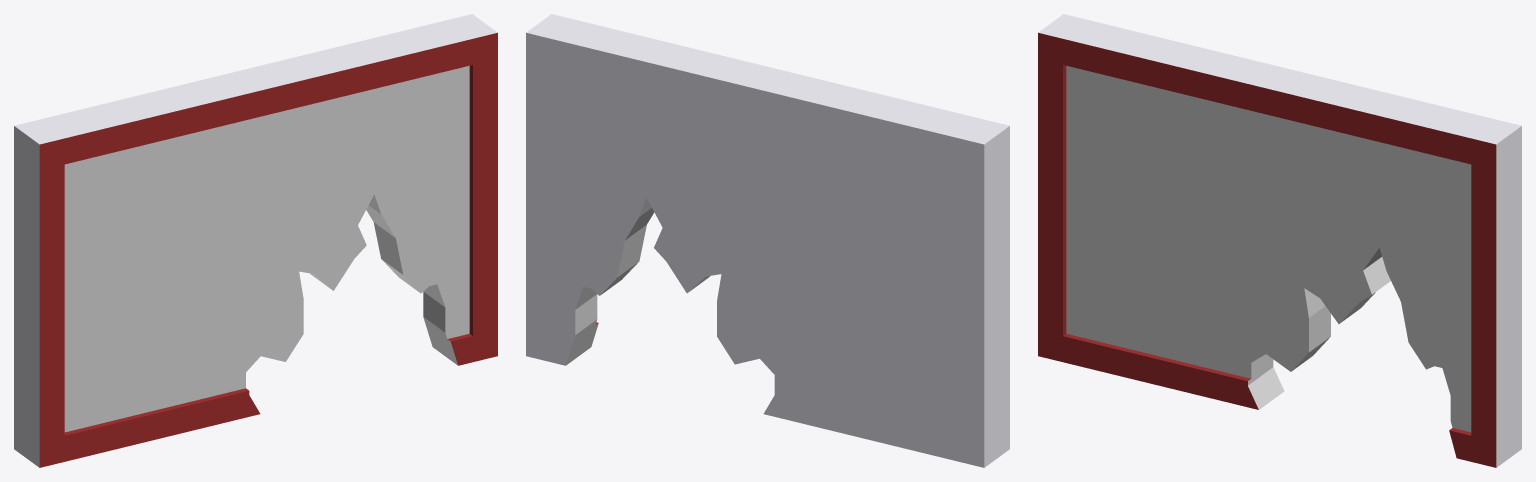
The model's file is Asian_Prop_Building_Modular_Wall_Damaged_01.FBX.
3 views of the same model, side by side, from view 1: azimuth 30°, elevation 25°; view 2: azimuth 150°, elevation 25°; view 3: azimuth 330°, elevation 25° (orthographic).
Visible parts, largest first — view 1: Asian_Prop_Building_Modular_Wall_Damaged_01; view 2: Asian_Prop_Building_Modular_Wall_Damaged_01; view 3: Asian_Prop_Building_Modular_Wall_Damaged_01.
Boxes of the visible parts, x1=… form: Asian_Prop_Building_Modular_Wall_Damaged_01: x1=14, y1=14, x2=497, y2=467; Asian_Prop_Building_Modular_Wall_Damaged_01: x1=526, y1=14, x2=1009, y2=467; Asian_Prop_Building_Modular_Wall_Damaged_01: x1=1038, y1=14, x2=1521, y2=467.
Size of the model in its own units: 5167 by 3485 by 500.
